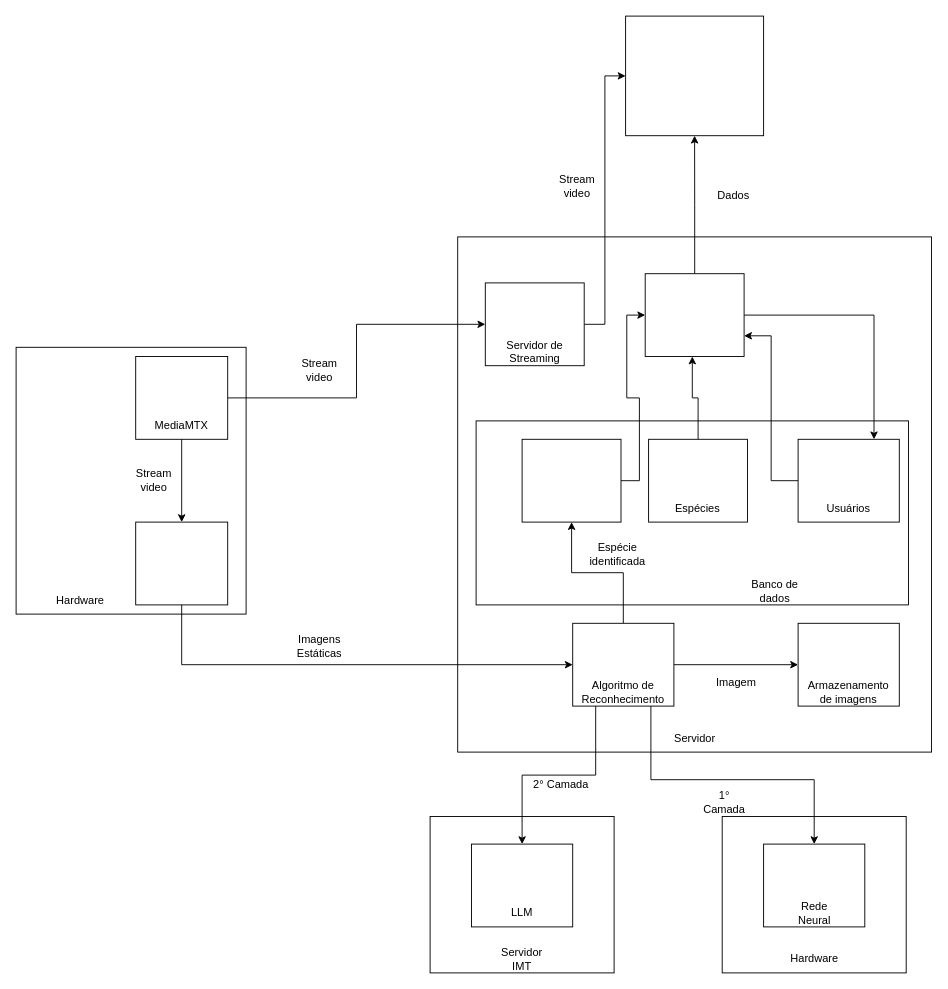
The diagram is 948 pixels wide and 989 high, and some of its shapes have lost their labels. Here are the shapes that lost their labels. From the top down, the centre of each, then its label:
At (694,75): "APP".
At (694,314): "Backend".
At (571,480): "Avistamentos".
At (181,563): "Script Sensor".
